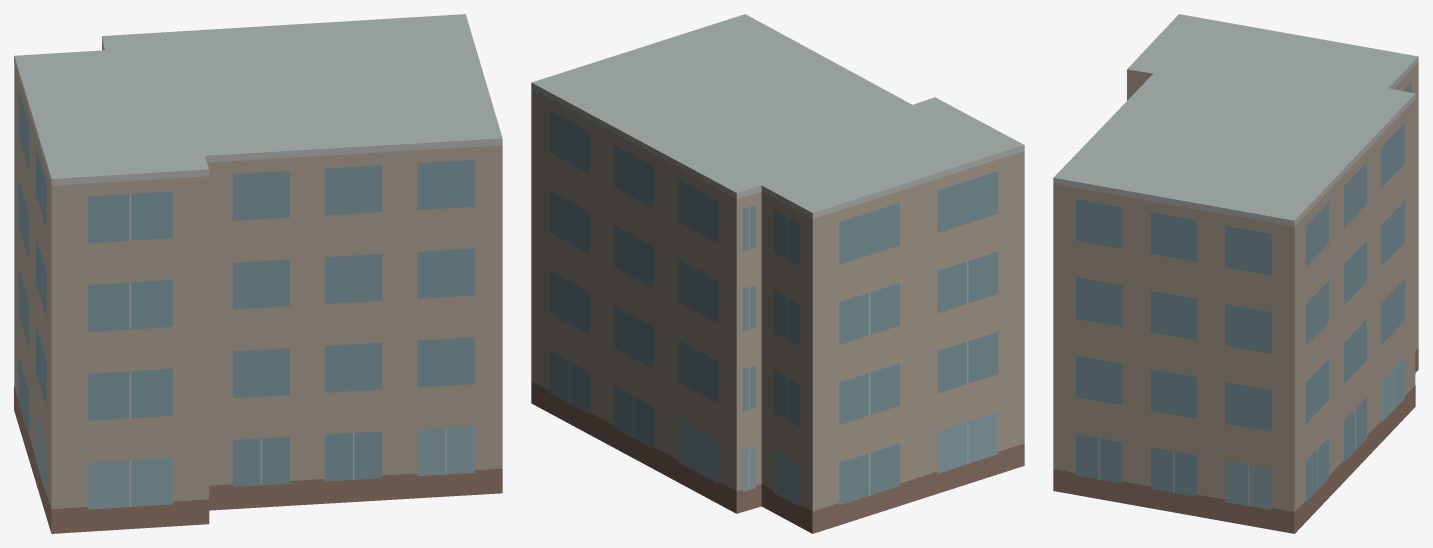
The model's file is survey-upis-32664754.glb.
The picture shows the model from 3 angles, left to right: view 1: azimuth 30°, elevation 25°; view 2: azimuth 150°, elevation 25°; view 3: azimuth 270°, elevation 25°; orthographic projection. The views are drawn at different scales.
Parts seen in each view (by area): view 1: survey-upis-32664754.tmp; view 2: survey-upis-32664754.tmp; view 3: survey-upis-32664754.tmp.
Part boxes in pixels (box(x1,y1,x2,y2)): survey-upis-32664754.tmp: box(14, 14, 502, 533); survey-upis-32664754.tmp: box(531, 14, 1024, 533); survey-upis-32664754.tmp: box(1053, 14, 1418, 533).
Bounding box in the file's own units: 18.12 × 12.8 × 13.54.
